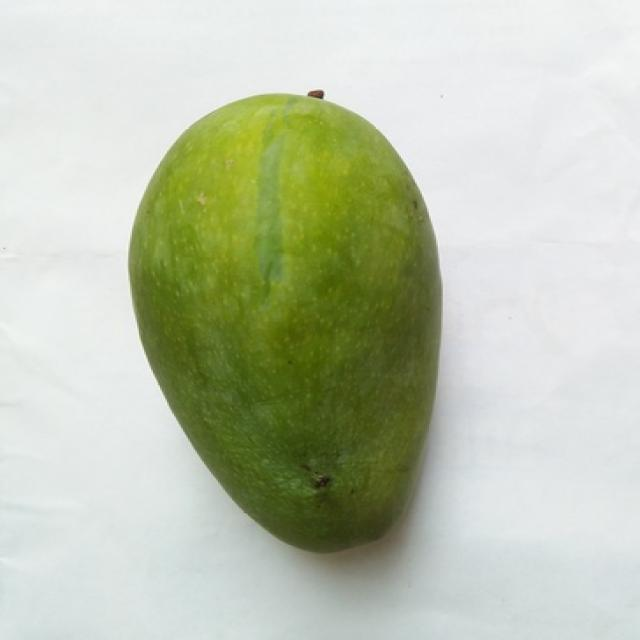Mango: (128, 94, 440, 551)
